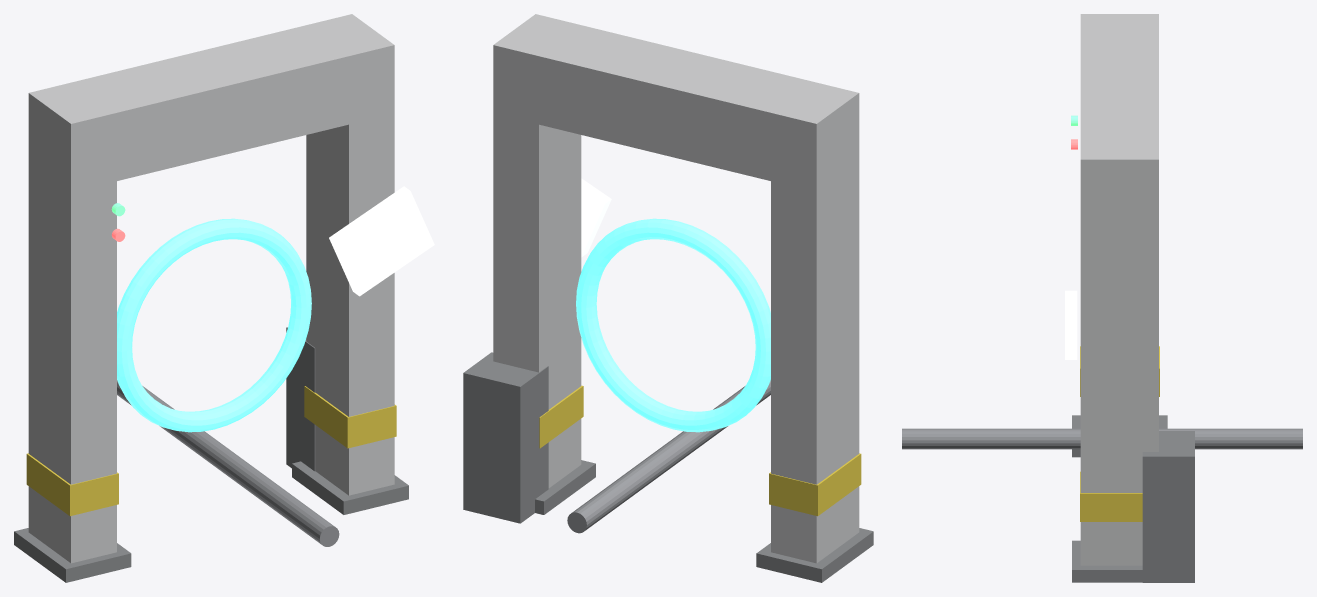
Rendered from machine_scanner.glb.
3 views of the same model, side by side, from view 1: azimuth 30°, elevation 25°; view 2: azimuth 150°, elevation 25°; view 3: azimuth 270°, elevation 25° (orthographic). The views are drawn at different scales.
Parts seen in each view (by area): view 1: MC_beam, MC_post_l, MC_post_r, MC_ring, MC_screen, MC_roller_a, MC_stripe_l, MC_stripe_r, MC_cab, MC_foot_l, MC_foot_r, MC_roller_b; view 2: MC_beam, MC_post_l, MC_post_r, MC_cab, MC_ring, MC_roller_b, MC_stripe_l, MC_foot_l, MC_stripe_r, MC_screen, MC_foot_r, MC_roller_a; view 3: MC_post_r, MC_beam, MC_cab, MC_roller_a, MC_roller_b, MC_stripe_r, MC_foot_r, MC_screen.
Part boxes in pixels (box(x1,y1,x2,y2)): MC_beam: box(28, 14, 394, 192); MC_post_l: box(28, 161, 116, 563); MC_post_r: box(306, 113, 394, 495); MC_ring: box(117, 218, 311, 432); MC_screen: box(329, 186, 434, 296); MC_roller_a: box(187, 431, 339, 546); MC_stripe_l: box(26, 453, 118, 516); MC_stripe_r: box(304, 386, 396, 448); MC_cab: box(286, 327, 315, 471); MC_foot_l: box(14, 528, 131, 582); MC_foot_r: box(292, 461, 408, 514); MC_roller_b: box(117, 380, 249, 476); MC_beam: box(493, 14, 859, 192); MC_post_l: box(771, 161, 859, 563); MC_post_r: box(493, 113, 581, 487); MC_cab: box(463, 352, 548, 523); MC_ring: box(576, 218, 770, 432); MC_roller_b: box(567, 431, 717, 533); MC_stripe_l: box(769, 453, 861, 516); MC_foot_l: box(756, 528, 873, 582); MC_stripe_r: box(539, 385, 583, 448); MC_screen: box(581, 178, 611, 257); MC_foot_r: box(535, 460, 595, 514); MC_roller_a: box(658, 380, 770, 468); MC_post_r: box(1080, 223, 1158, 565); MC_beam: box(1080, 14, 1158, 222); MC_cab: box(1142, 431, 1194, 582); MC_roller_a: box(902, 428, 1080, 449); MC_roller_b: box(1059, 428, 1302, 449); MC_stripe_r: box(1080, 471, 1142, 521); MC_foot_r: box(1072, 540, 1142, 582); MC_screen: box(1065, 290, 1077, 359).
Size of the model in its own units: 2.23 by 2.65 by 2.3.
